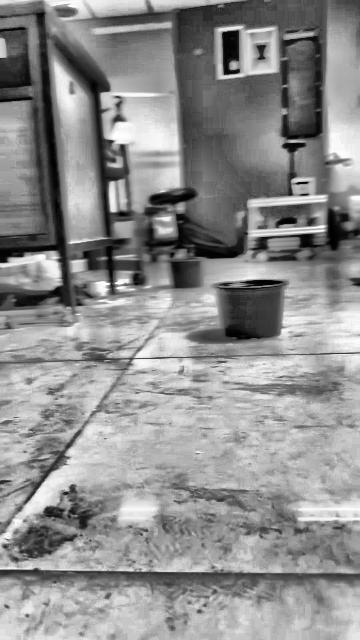pot: (213, 278, 288, 339), (167, 258, 203, 287)
